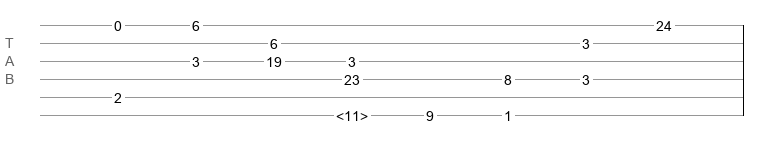0: (114, 18, 122, 28)
1: (504, 108, 512, 118)
19: (266, 54, 282, 64)
2: (114, 90, 122, 100)
23: (344, 72, 360, 82)
24: (656, 18, 672, 28)
3: (192, 54, 200, 64), (348, 54, 356, 64), (582, 72, 590, 82), (582, 36, 590, 46)
6: (192, 18, 200, 28), (270, 36, 278, 46)
8: (504, 72, 512, 82)
9: (426, 108, 434, 118)
harmonic: (336, 108, 368, 118)
